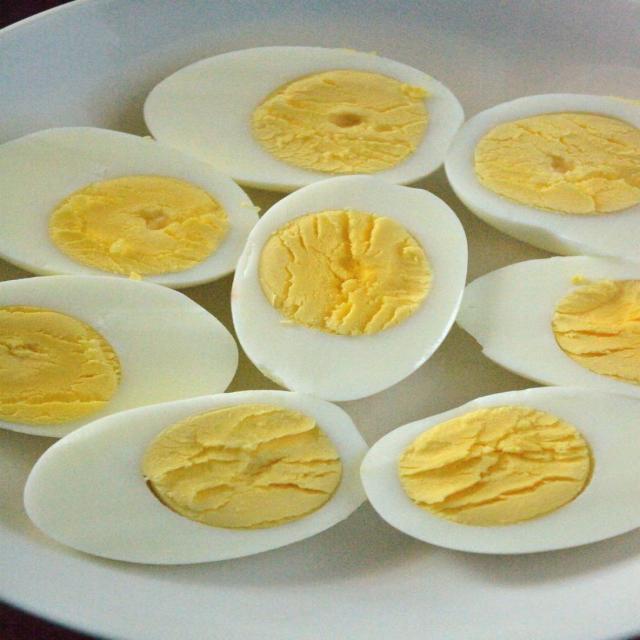eggs: (19, 59, 640, 565)
